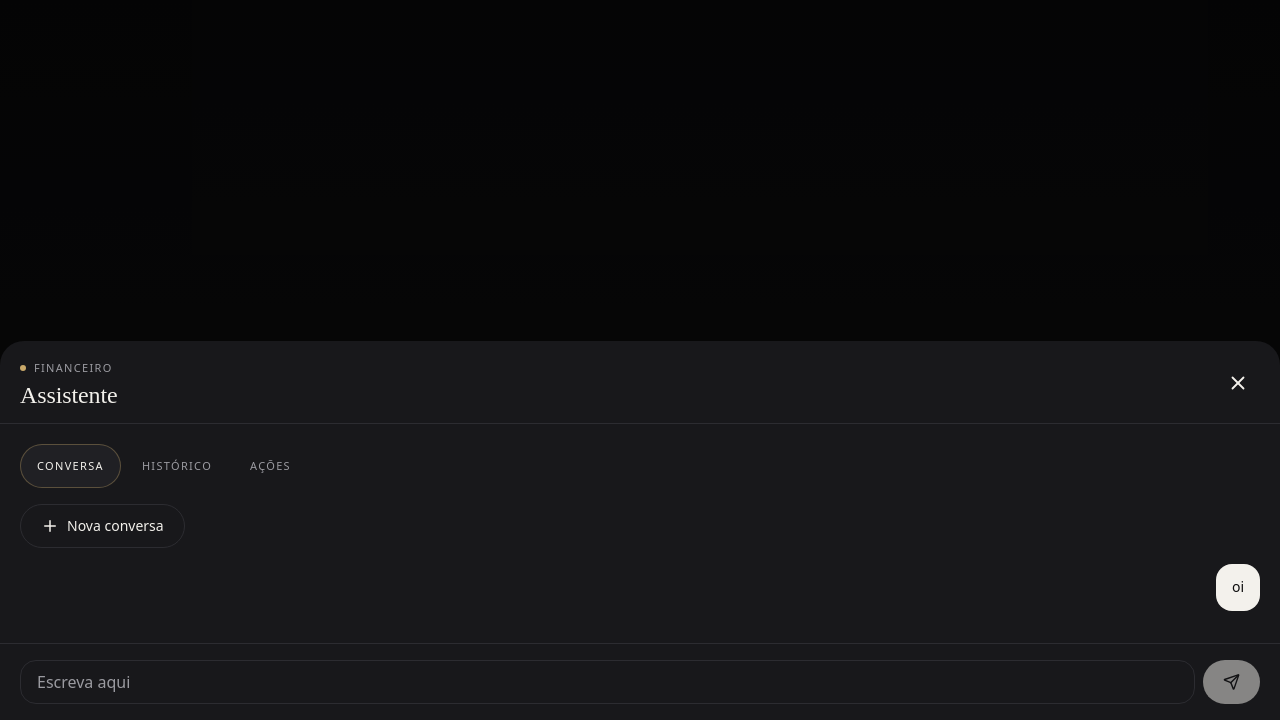
Test: archived conversation (read-only) › Nova conversa asks first, then archives and shows the empty state
expect the text "oi" is shown: met, box [1216, 564, 1260, 611]
Click the button "Nova conversa". click: (102, 526)
box: [20, 504, 185, 548]
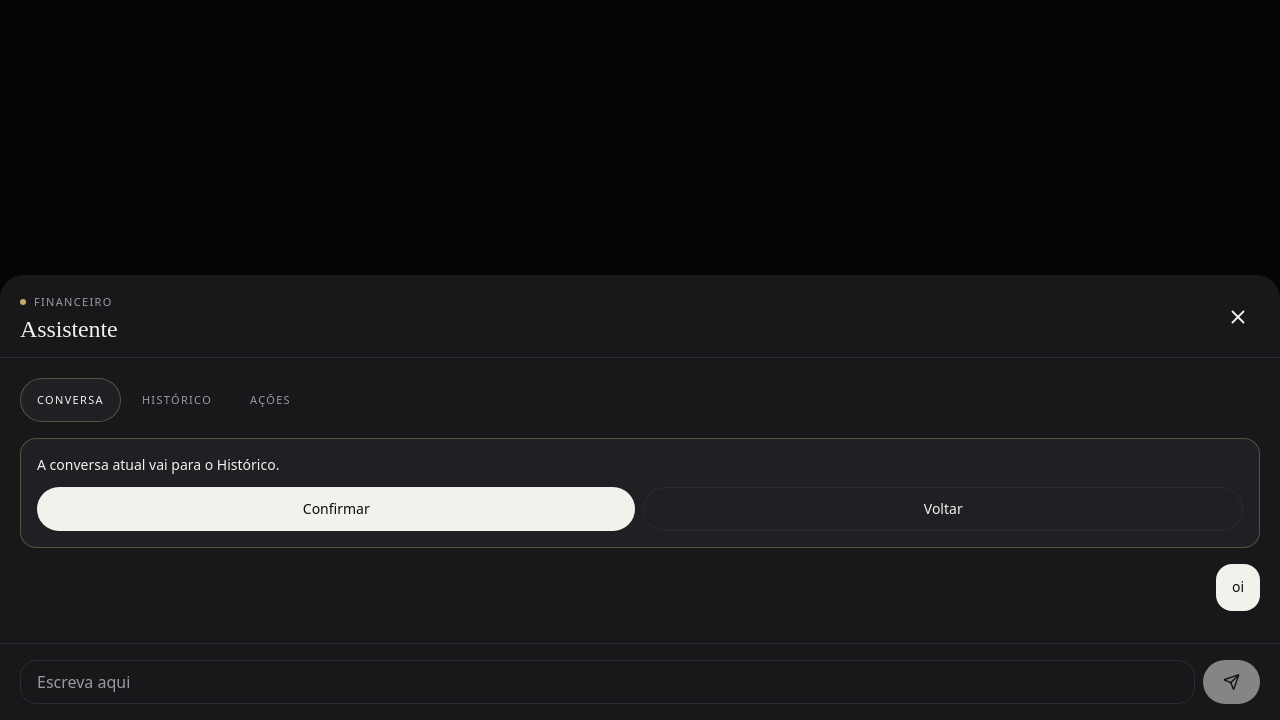
expect the text "A conversa atual vai para o Histórico." is shown: met, box [37, 455, 279, 474]
Click the button "Confirmar". click: (336, 509)
box: [37, 487, 636, 531]
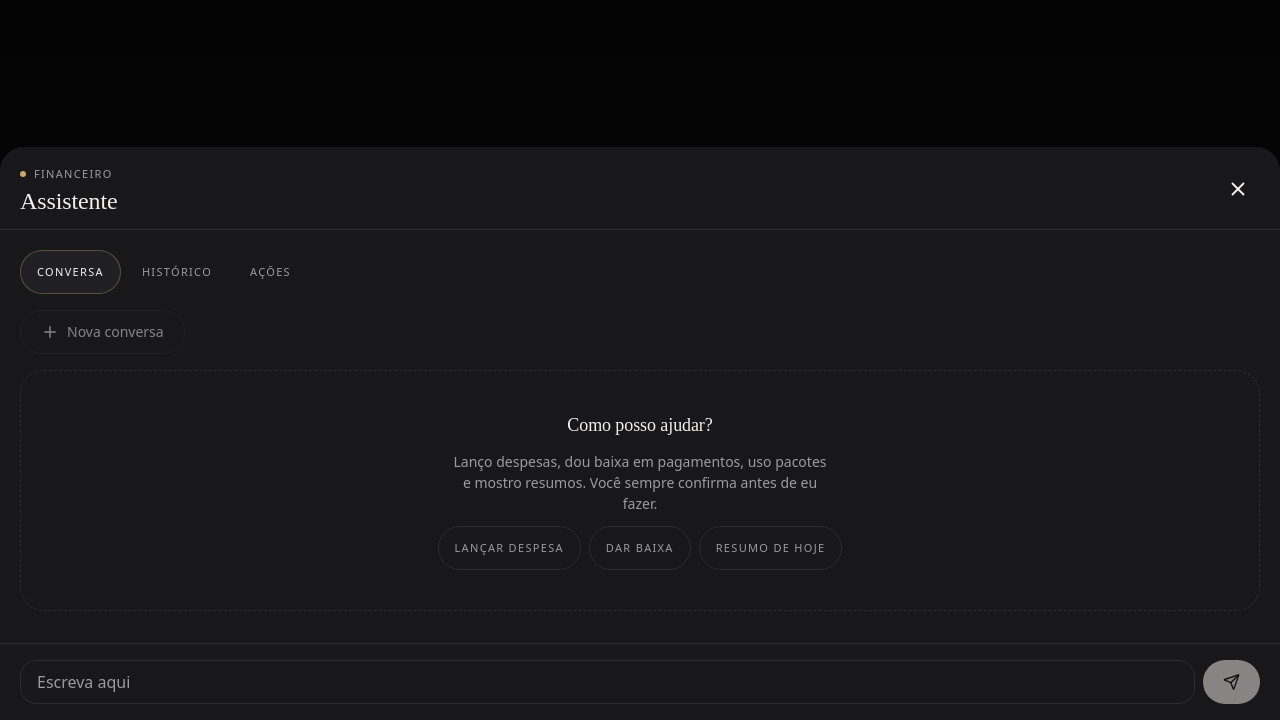
expect the text "Como posso ajudar?" is shown: met, box [567, 411, 713, 439]
